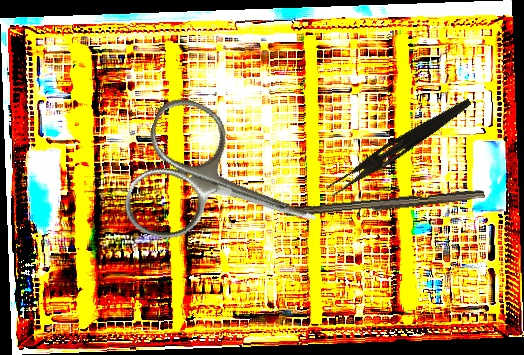Dressing Forceps: (325, 90, 474, 203)
Iris Scissors: (117, 91, 339, 286)
Scalpel Handle: (284, 186, 486, 223)
